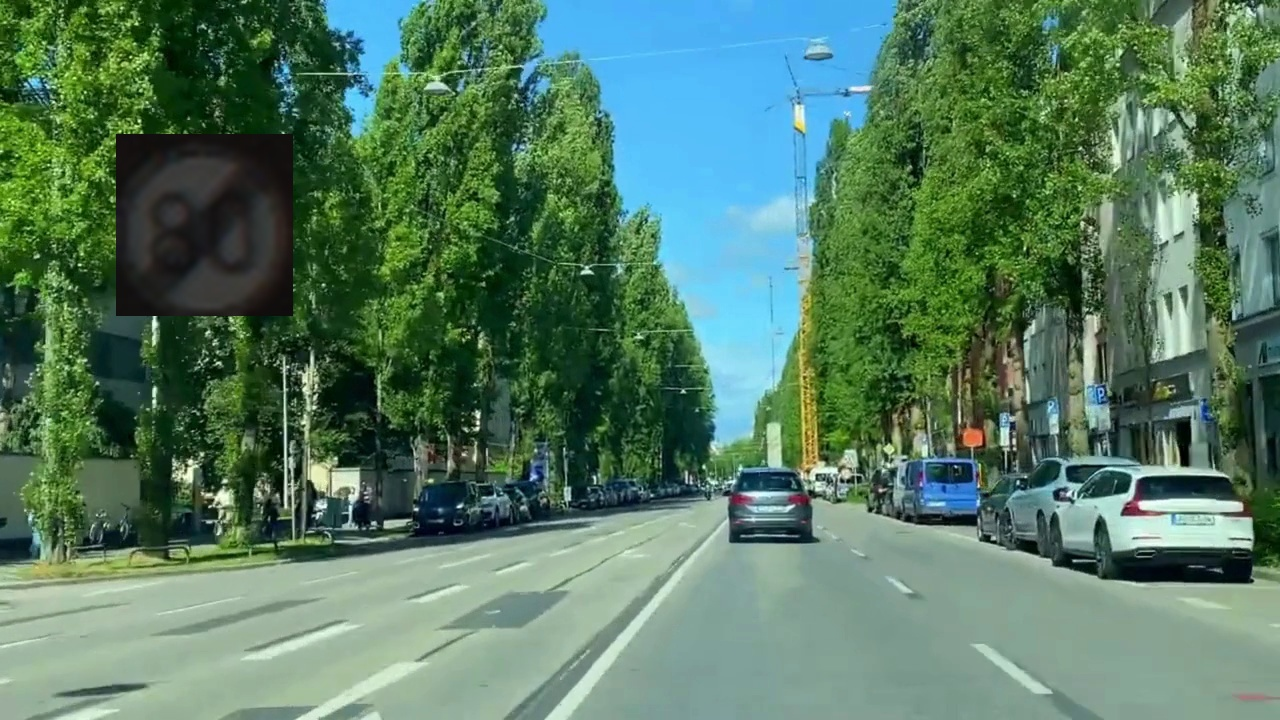End Speed 80: (116, 134, 293, 316)
